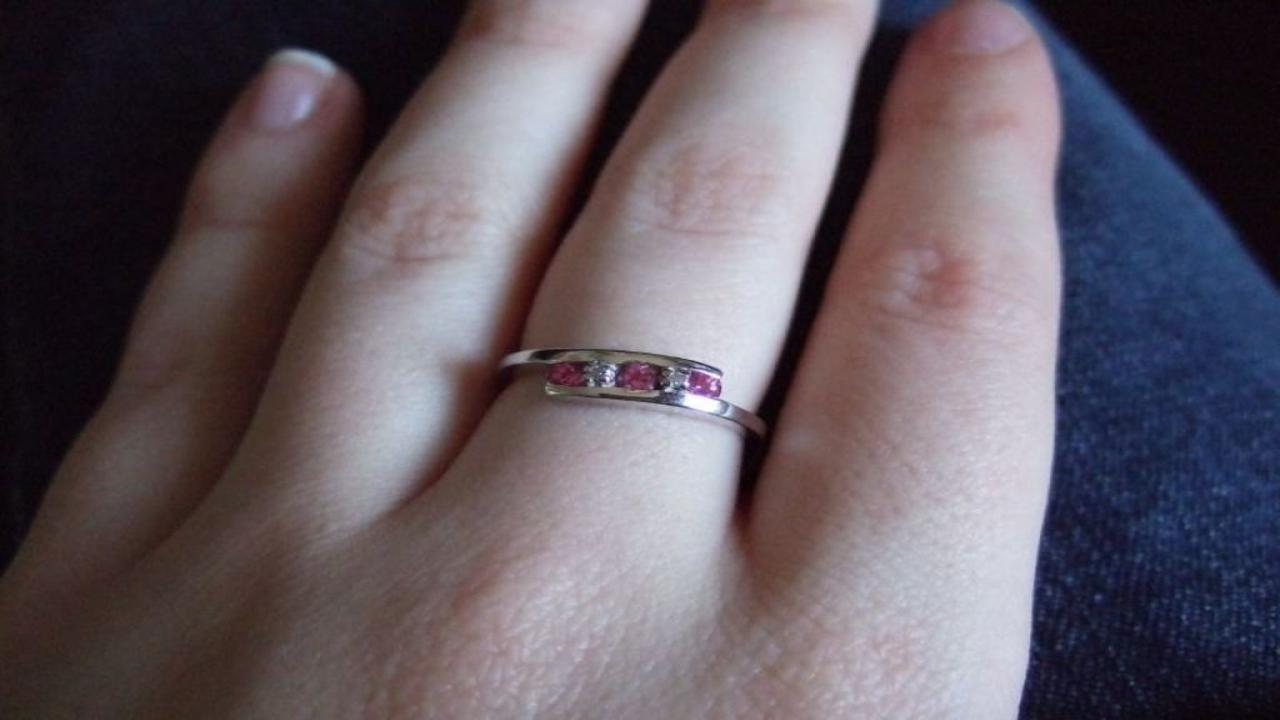ring: (493, 342, 771, 437)
